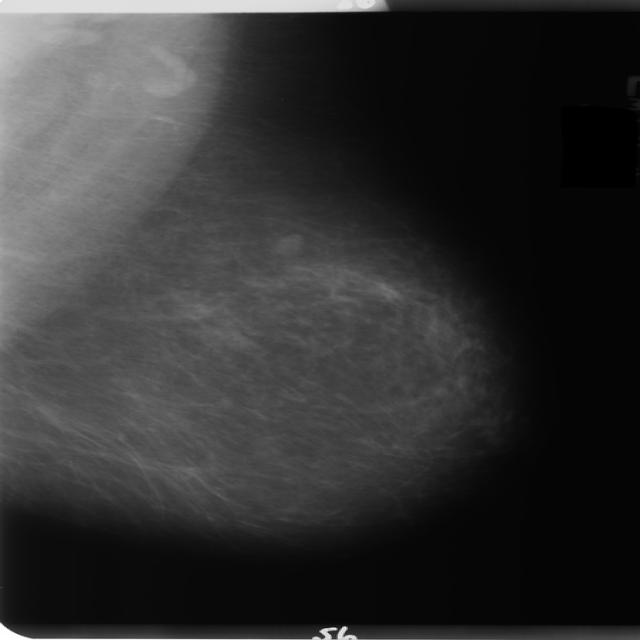tumour: (271, 232, 304, 256)
